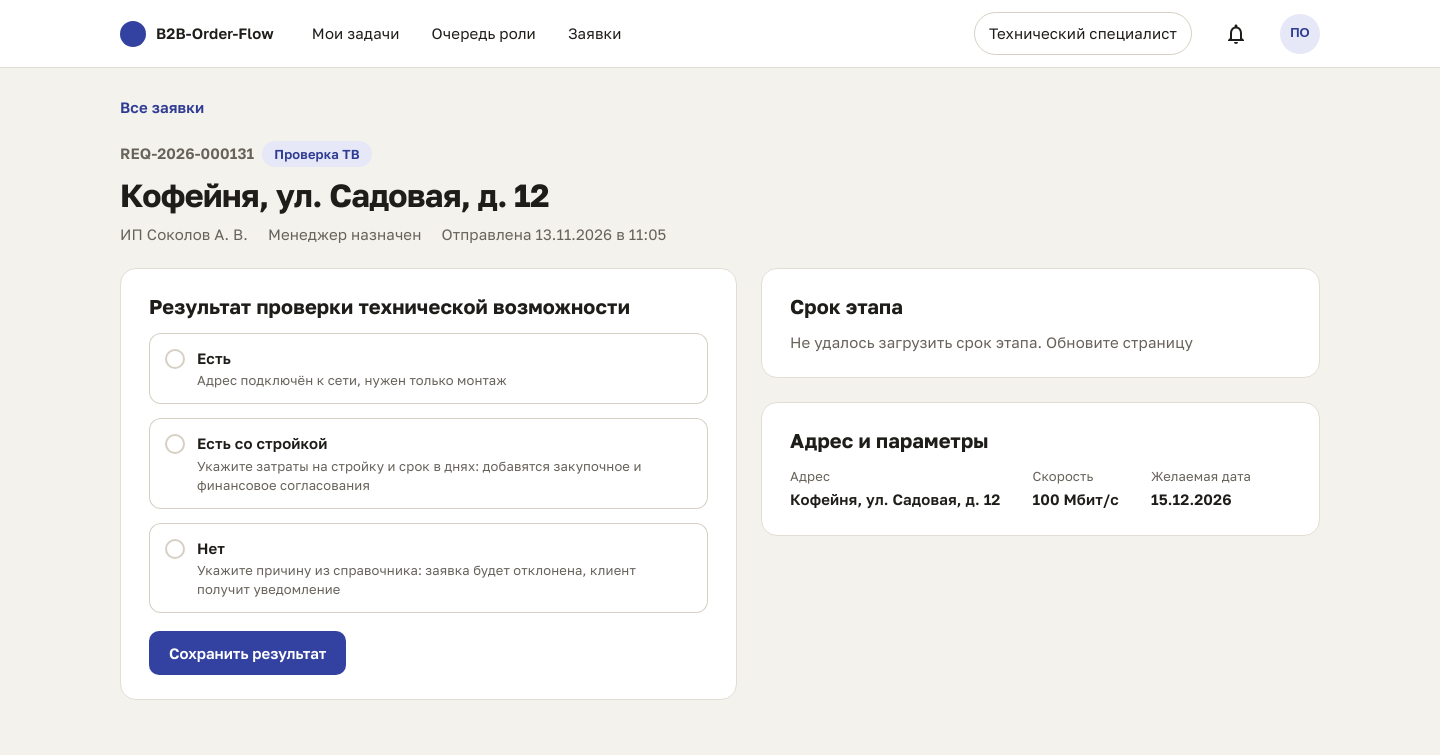
Test: UI-08. Действия SC-01 › техспециалист: при сбое запроса SLA (404) виден текст ошибки, форма ТВ работает
Expected: the text "Не удалось загрузить срок этапа. Обновите страницу" is shown, [790, 333, 1193, 351]
Click the radio button with test id "tech-result-option-NONE" at coordinates (428, 568), box [149, 522, 708, 613]
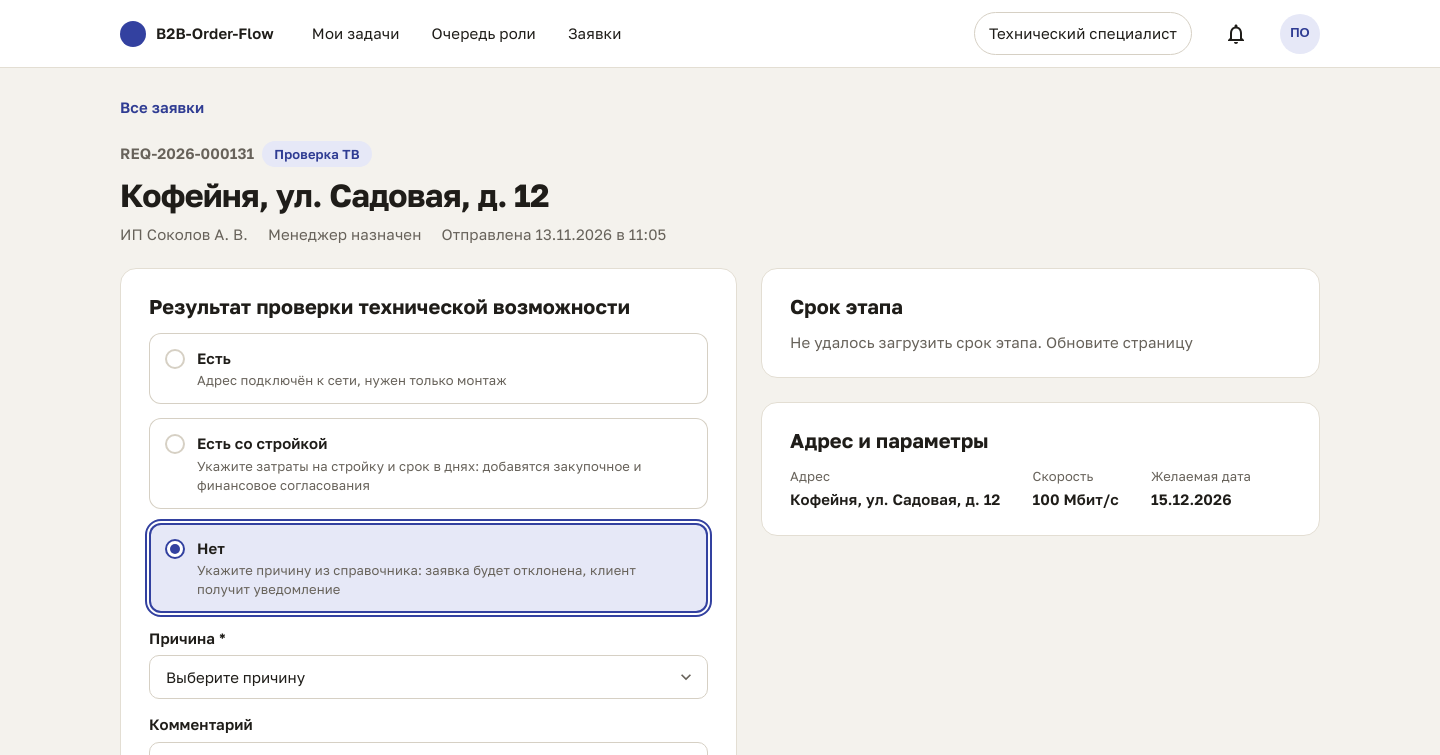
Expected: the dropdown with test id "tech-reason" is shown, [149, 655, 708, 699]
